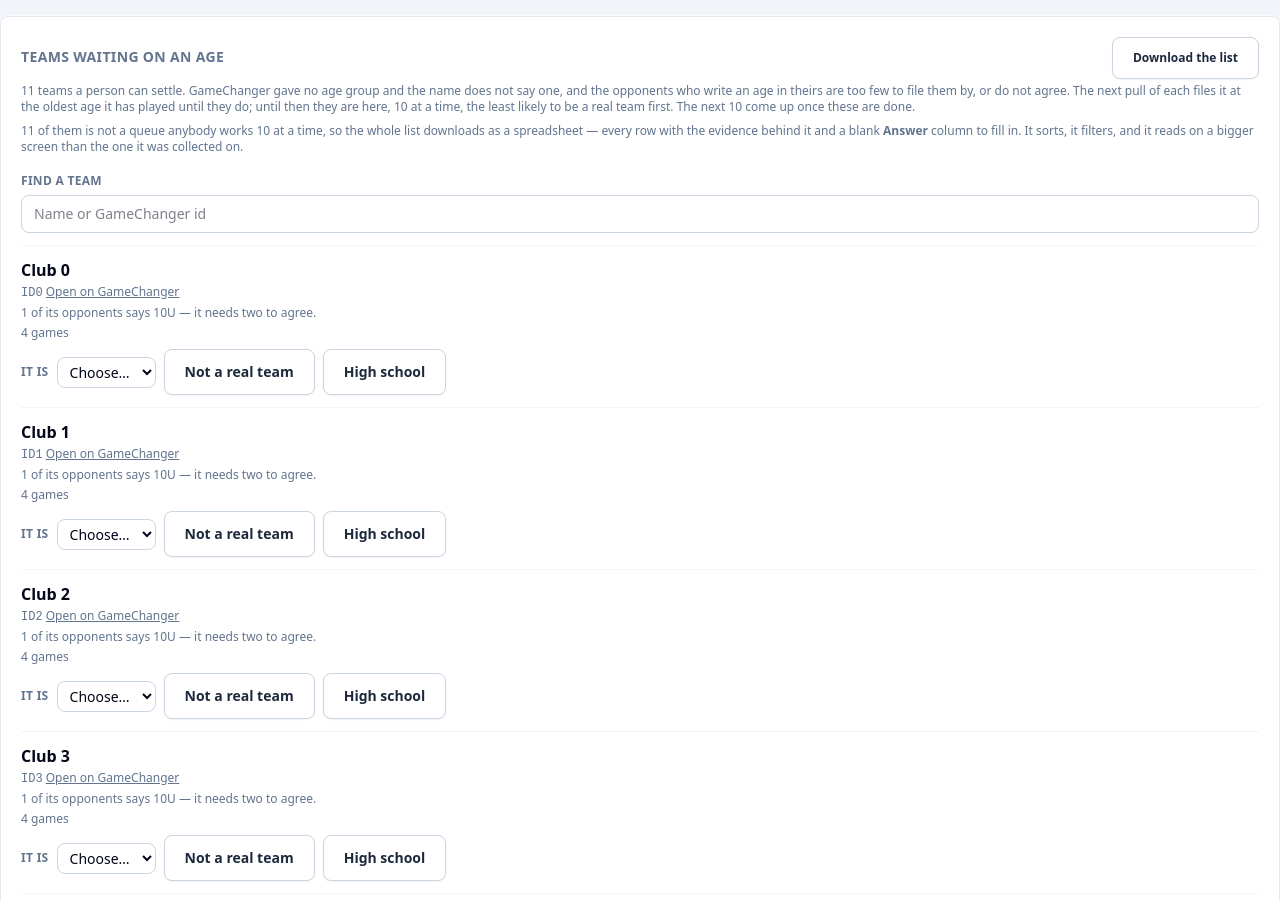
the review card for teams waiting on an age › finds a team the queue is hiding, and says what is holding it
Type "Club 4" into the search field labelled "Find a team" at (640, 214), box [21,195,1259,233]
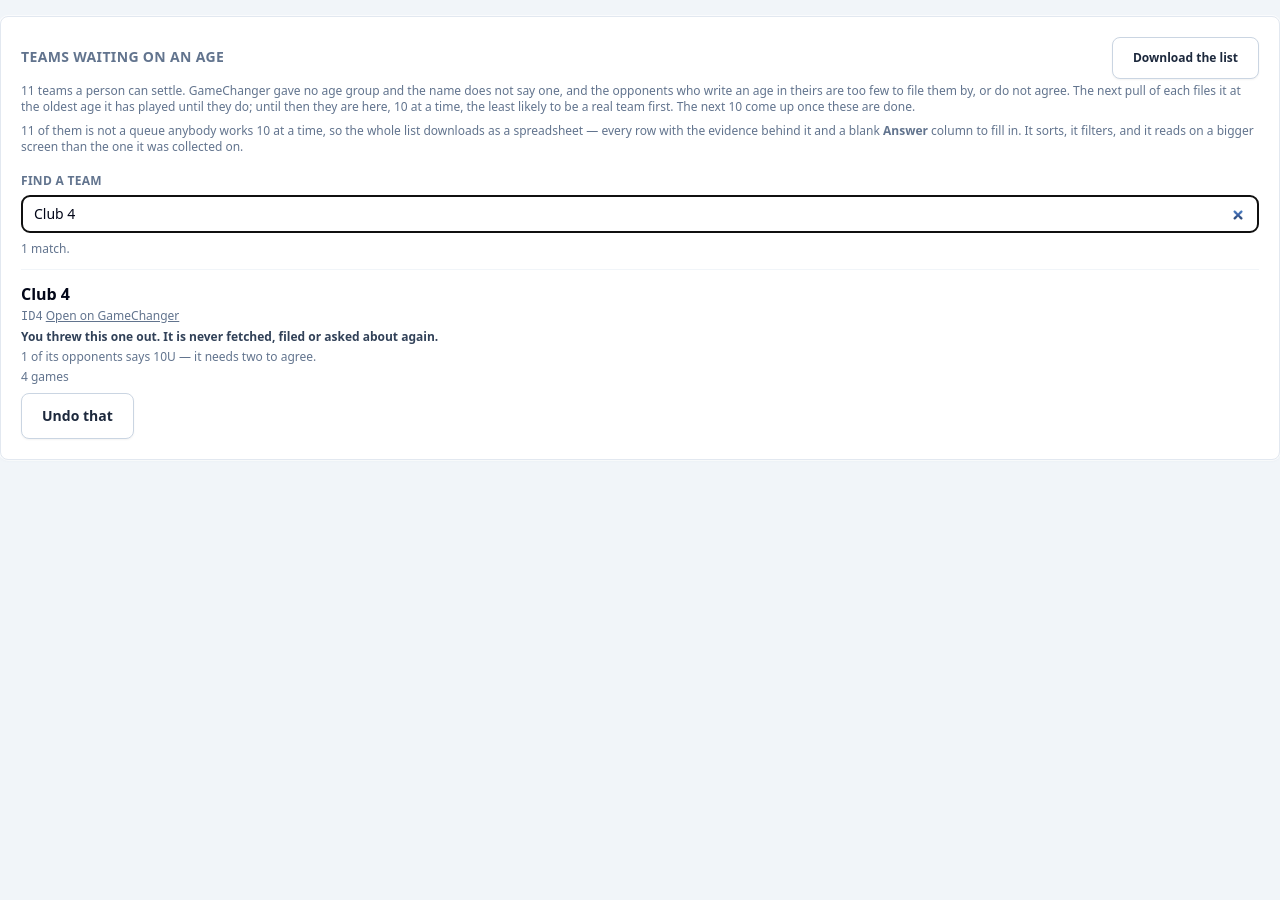
Now the number of list items is 1, box [21,269,1259,439]
Now the text "You threw this one out" is shown, box [21,328,438,345]
